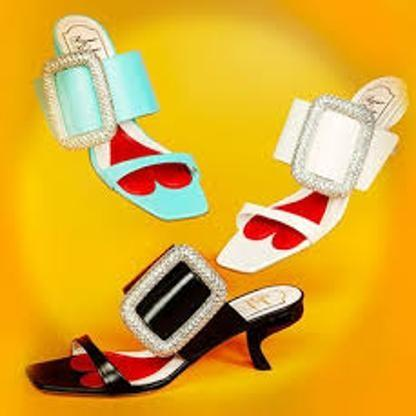not trash: (27, 243, 303, 388), (217, 72, 407, 267), (33, 13, 212, 218)
